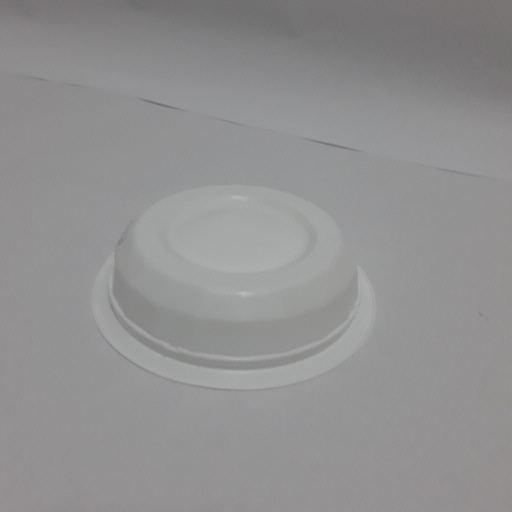Plastic_5: (88, 182, 377, 397)
